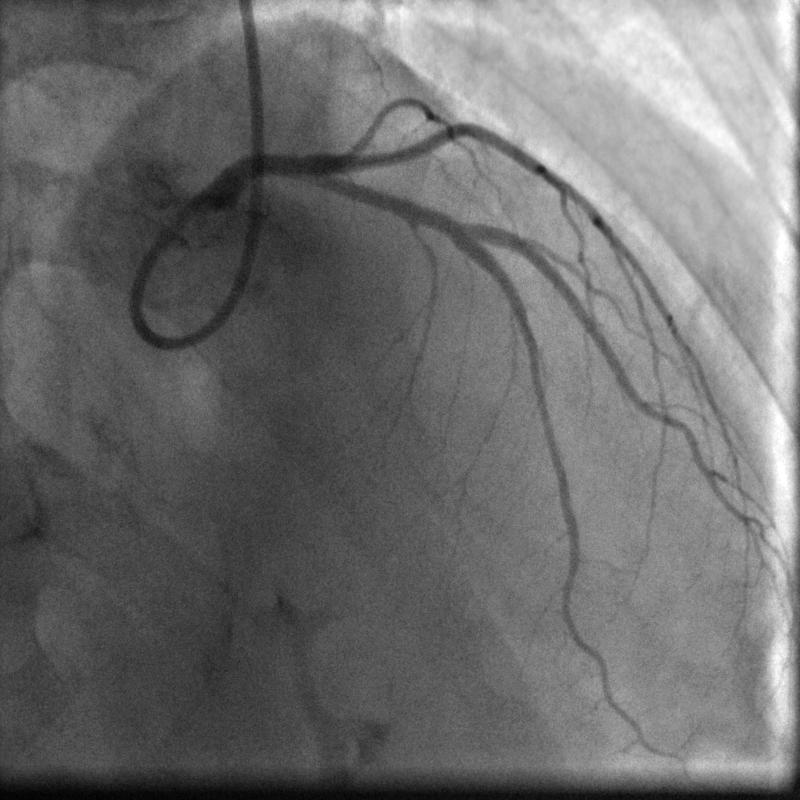Stenosis: (437, 210, 468, 251)
